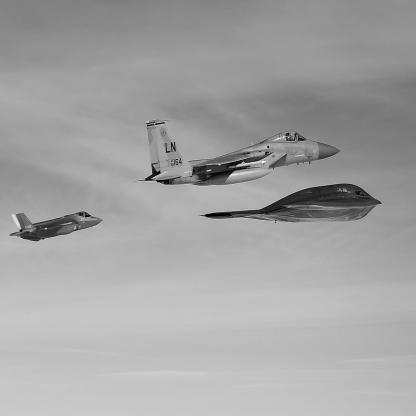B2: (198, 184, 383, 224)
F15: (134, 120, 342, 187)
F35: (10, 212, 104, 243)
